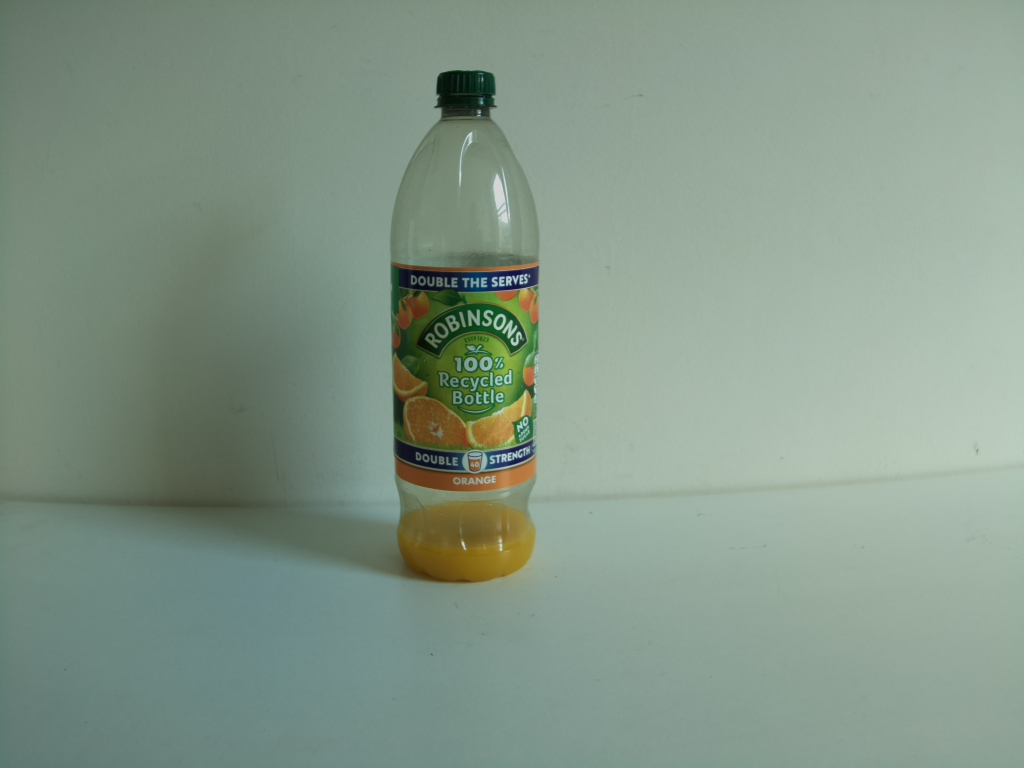juice: (389, 61, 545, 594)
